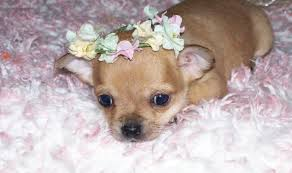chihuahua: (56, 1, 273, 142)
